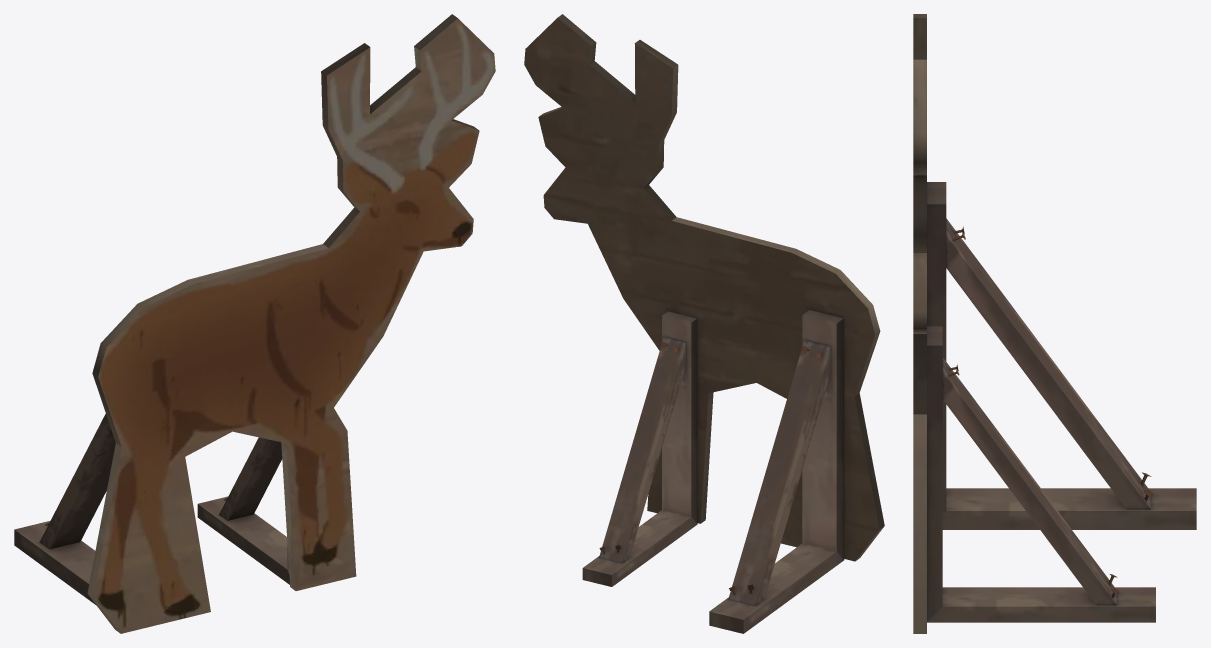
The picture shows the model from 3 angles, left to right: view 1: azimuth 30°, elevation 25°; view 2: azimuth 150°, elevation 25°; view 3: azimuth 270°, elevation 25°; orthographic projection. The views are drawn at different scales.
Parts seen in each view (by area): view 1: body0_model0_lod0_mesh0; view 2: body0_model0_lod0_mesh0; view 3: body0_model0_lod0_mesh0.
Part boxes in pixels (bbox=[...]): body0_model0_lod0_mesh0: bbox=[14, 14, 495, 633]; body0_model0_lod0_mesh0: bbox=[524, 14, 884, 633]; body0_model0_lod0_mesh0: bbox=[913, 14, 1196, 633].
Bounding box in the file's own units: 68.9 × 87.59 × 35.39.
1 material, 1 textured.
